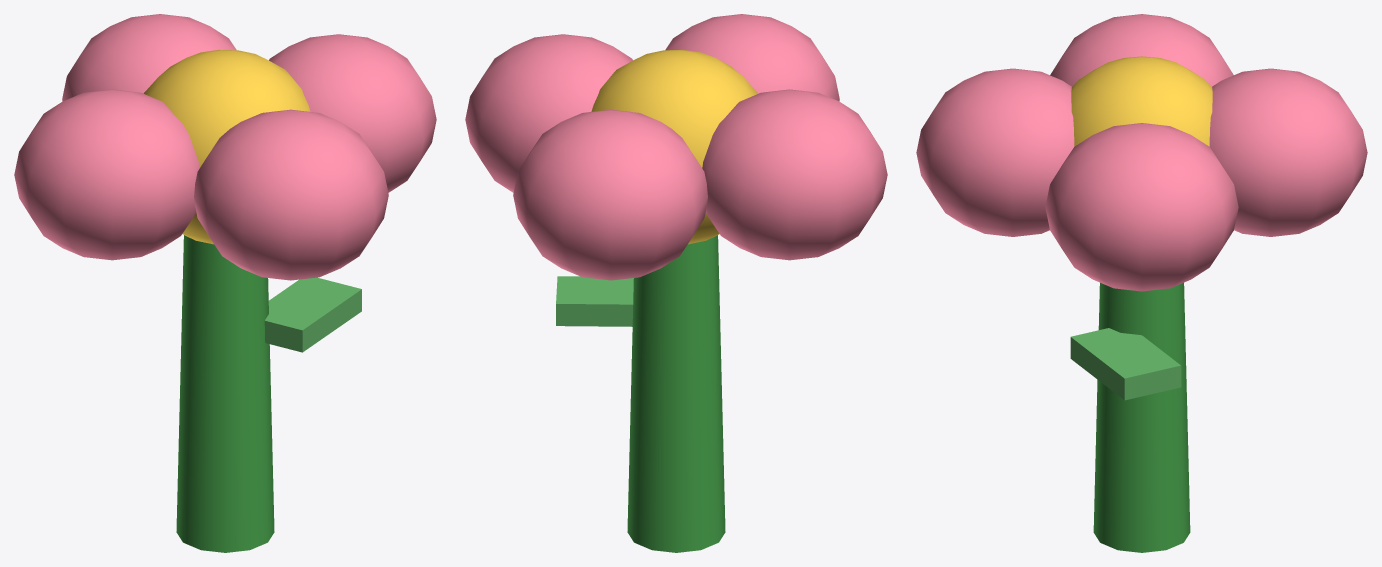
File: flower.glb
The picture shows the model from 3 angles, left to right: view 1: azimuth 30°, elevation 25°; view 2: azimuth 150°, elevation 25°; view 3: azimuth 270°, elevation 25°; orthographic projection.
Visible parts, largest first — view 1: flower; view 2: flower; view 3: flower.
Boxes of the visible parts, x1,y1,x2,y2 form: flower: [14, 14, 436, 552]; flower: [465, 14, 887, 552]; flower: [916, 14, 1367, 552].
Size of the model in its own units: 0.56 by 0.64 by 0.56.
